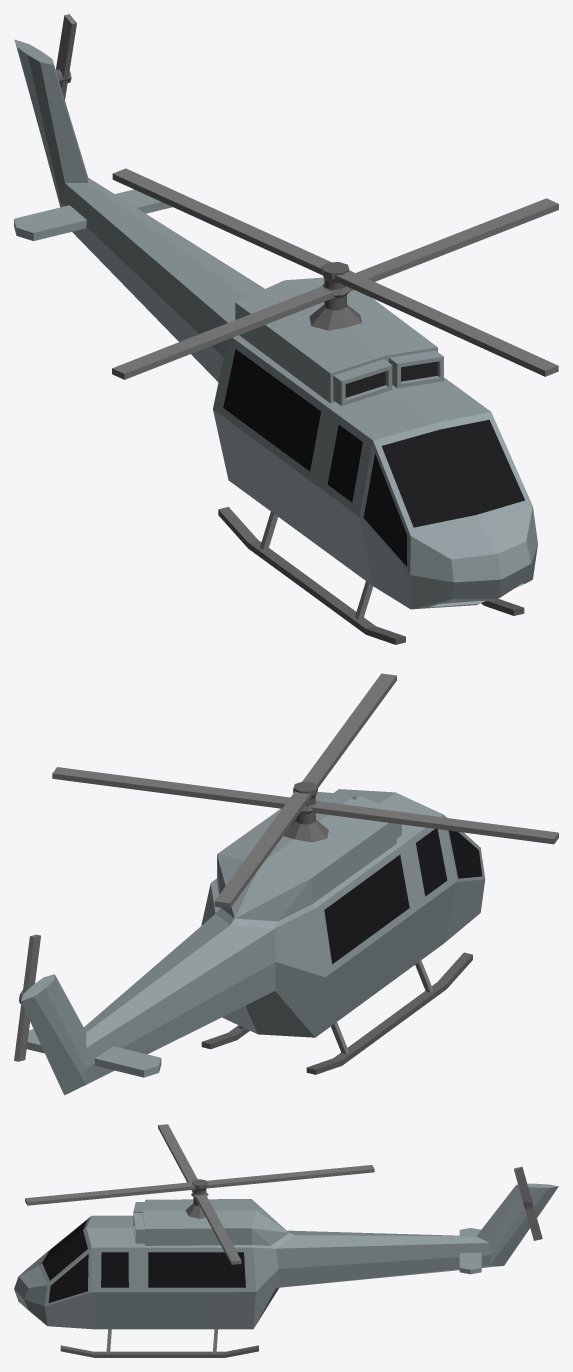
File: Helicopter_03.fbx
3 renders of one model, top to bottom at view 1: azimuth 30°, elevation 25°; view 2: azimuth 150°, elevation 25°; view 3: azimuth 270°, elevation 25°, orthographic. The views are drawn at different scales.
Parts seen in each view (by area): view 1: Helicopter_03, Helicopter_03_Prop_R; view 2: Helicopter_03, Helicopter_03_Prop_R; view 3: Helicopter_03, Helicopter_03_Prop_R.
Part boxes in pixels (x1,y1,x2,y2): Helicopter_03: (14,39,558,644); Helicopter_03_Prop_R: (55,14,76,99); Helicopter_03: (21,673,558,1095); Helicopter_03_Prop_R: (14,934,40,1061); Helicopter_03: (14,1124,558,1357); Helicopter_03_Prop_R: (514,1166,542,1240).
Bounding box in the file's own units: 10.38 × 6.28 × 17.39.
